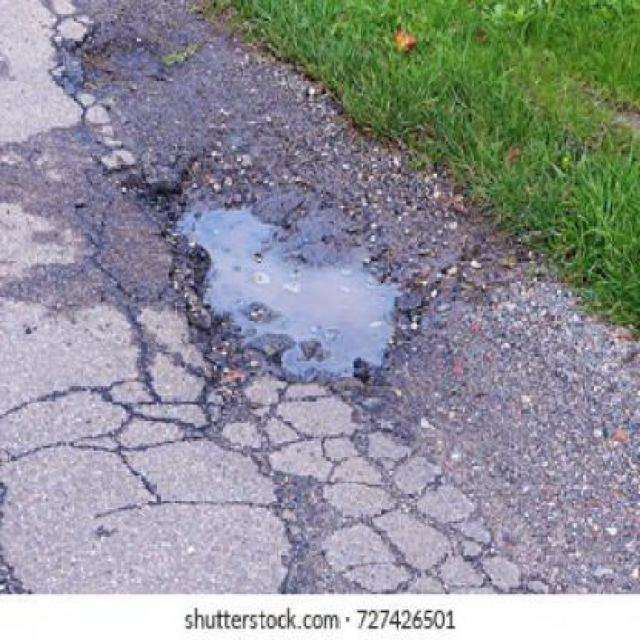Buraco: (114, 152, 436, 391)
